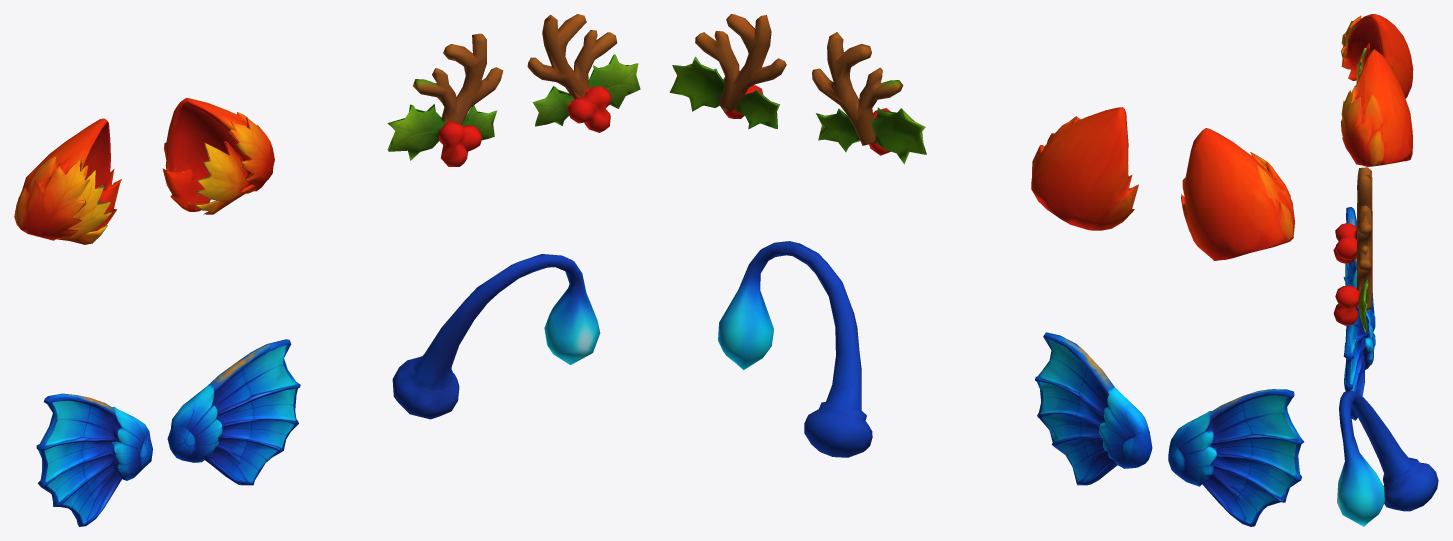
File: fantasy_icons.glb
3 renders of one model, left to right at view 1: azimuth 30°, elevation 25°; view 2: azimuth 150°, elevation 25°; view 3: azimuth 270°, elevation 25°, orthographic. The views are drawn at different scales.
Parts seen in each view (by area): view 1: tripo_node_daf40c46-009b-4af8-8f7f-7e2b5a39f305; view 2: tripo_node_daf40c46-009b-4af8-8f7f-7e2b5a39f305; view 3: tripo_node_daf40c46-009b-4af8-8f7f-7e2b5a39f305.
Part boxes in pixels (x1,y1,x2,y2): tripo_node_daf40c46-009b-4af8-8f7f-7e2b5a39f305: (14,14,640,526); tripo_node_daf40c46-009b-4af8-8f7f-7e2b5a39f305: (669,14,1303,526); tripo_node_daf40c46-009b-4af8-8f7f-7e2b5a39f305: (1333,14,1438,526).
Size of the model in its own units: 1 by 0.6082 by 0.1667.
Materials: 1 (1 with a texture image).
